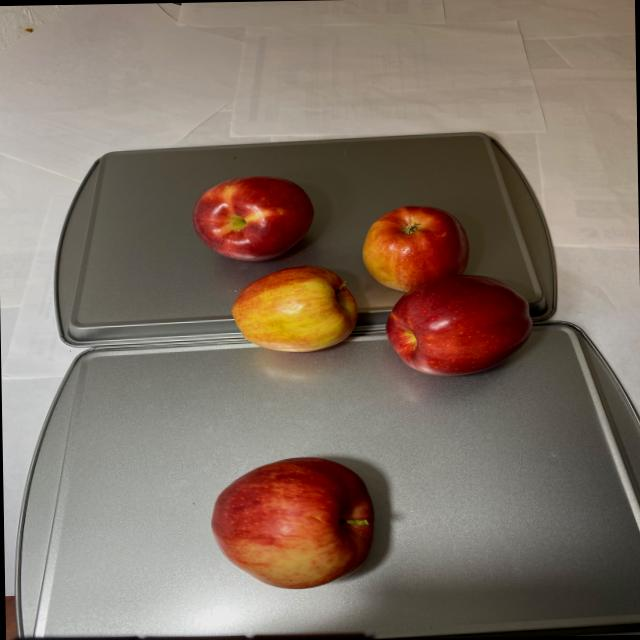apple: (188, 170, 536, 382), (205, 454, 376, 592)
